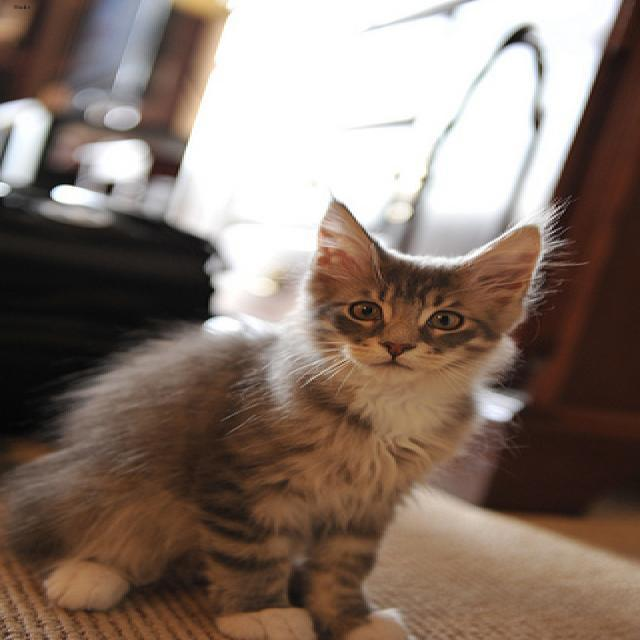Maine_Coon: (310, 197, 538, 382)
